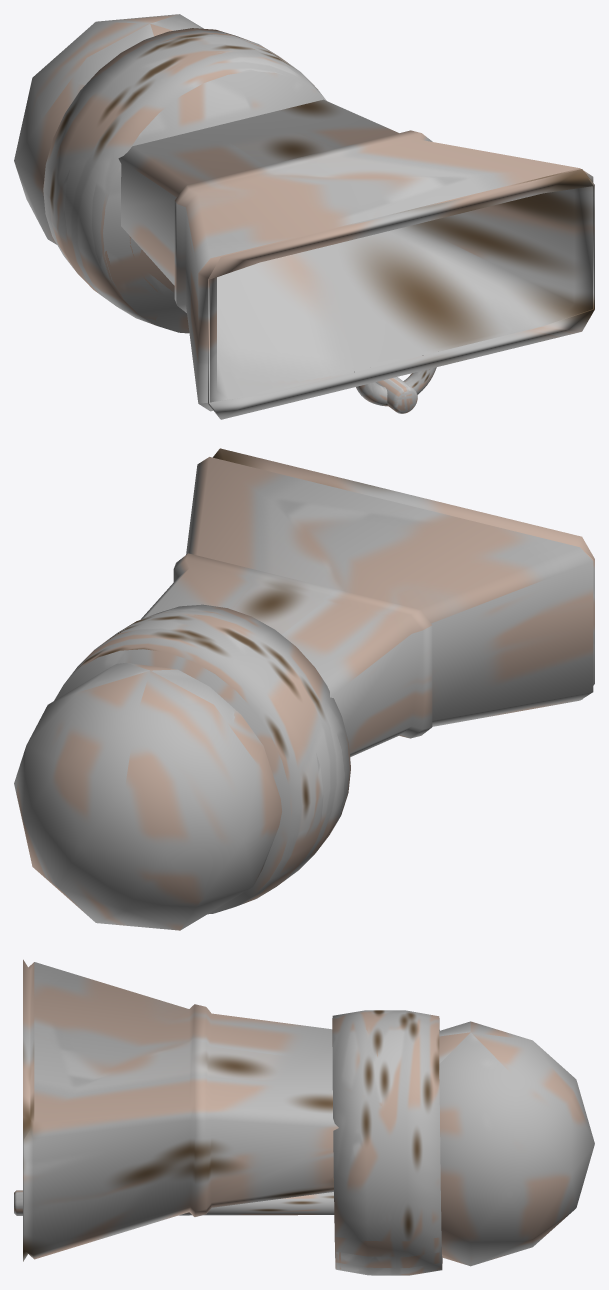
The model's file is megaphone2.glb.
3 views of the same model, one above another, from view 1: azimuth 30°, elevation 25°; view 2: azimuth 150°, elevation 25°; view 3: azimuth 270°, elevation 25° (orthographic). The views are drawn at different scales.
Visible parts, largest first — view 1: Cube; view 2: Cube; view 3: Cube.
Boxes of the visible parts, left/top/right/bottom form: Cube: left=14, top=14, right=594, bottom=419; Cube: left=14, top=448, right=594, bottom=930; Cube: left=14, top=959, right=594, bottom=1275.
Size of the model in its own units: 5.27 by 3.43 by 7.51.
1 material, 1 textured.
